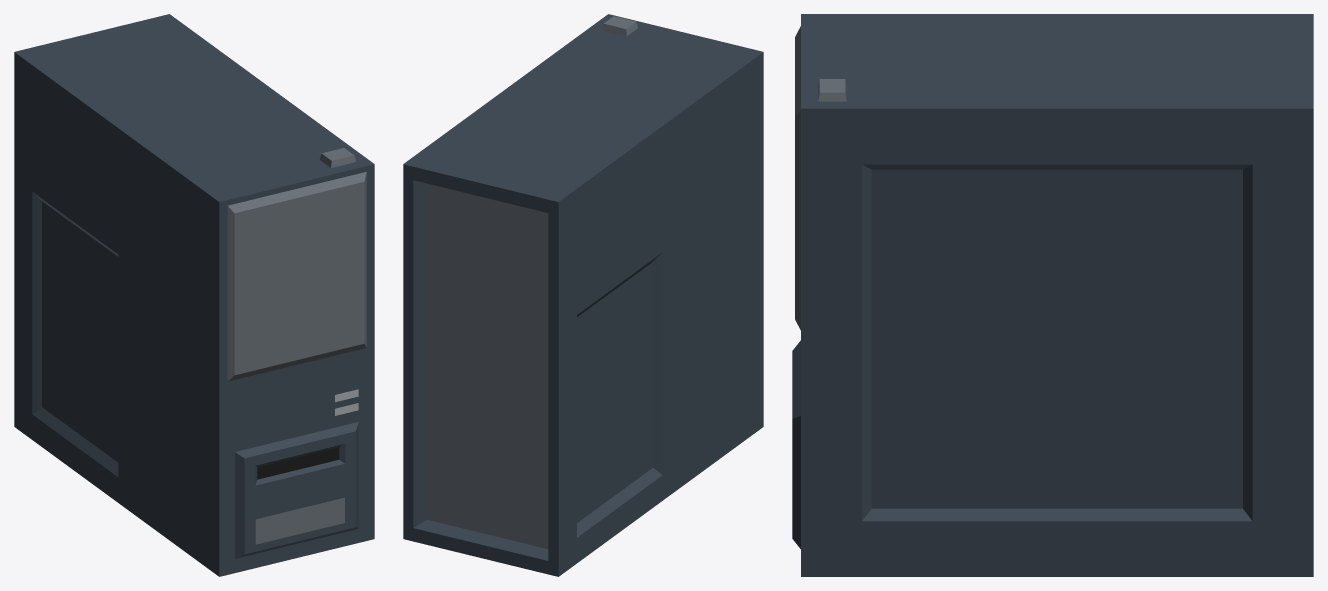
The model's file is ComputerTower.FBX.
3 views of the same model, side by side, from view 1: azimuth 30°, elevation 25°; view 2: azimuth 150°, elevation 25°; view 3: azimuth 270°, elevation 25° (orthographic). The views are drawn at different scales.
Parts seen in each view (by area): view 1: ComputerTower; view 2: ComputerTower; view 3: ComputerTower.
Boxes of the visible parts, x1,y1,x2,y2 form: ComputerTower: (14,14,374,576); ComputerTower: (403,14,763,576); ComputerTower: (792,14,1313,576).
Size of the model in its own units: 21.94 by 51.43 by 51.01.
